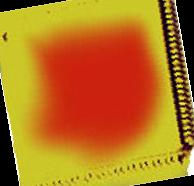componente_T: (1, 1, 192, 184)
